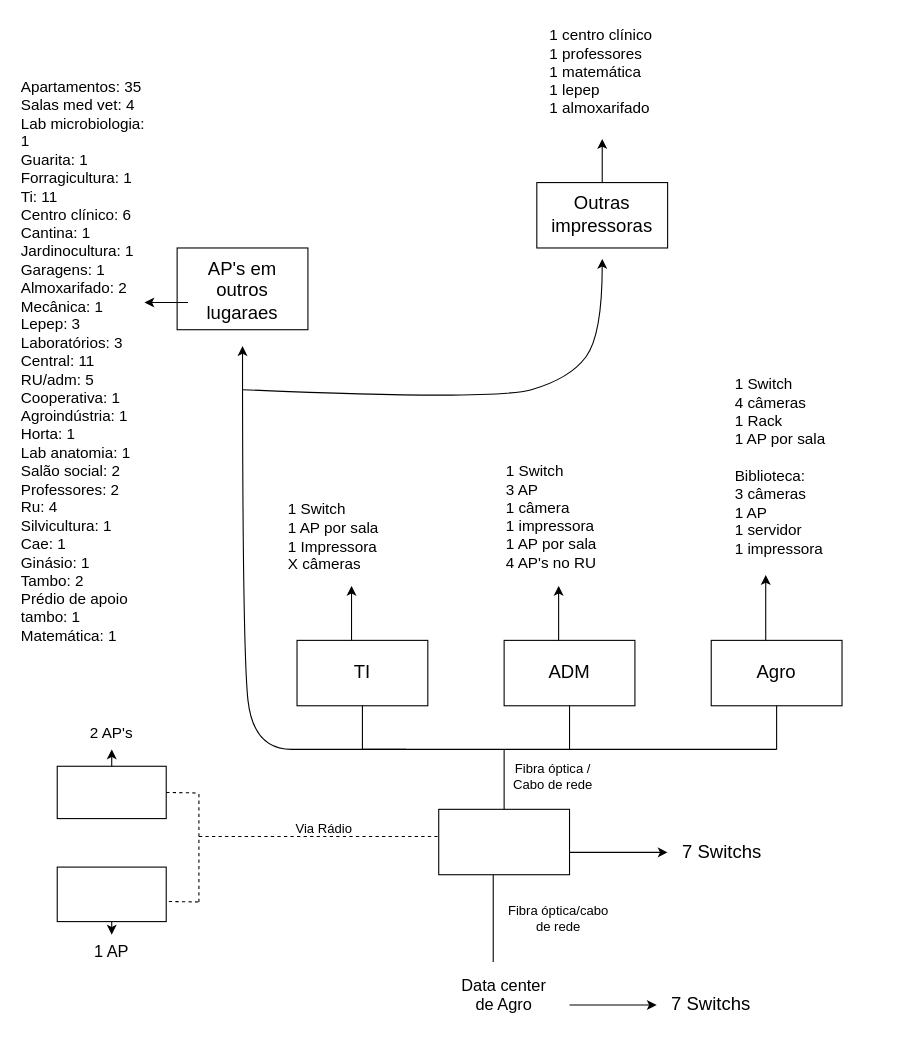
This 904x1040 diagram has some shape labels left out. Each missing label, with the centre of its shape:
"Data center da TI" belongs at pixel 504 841.
"Silvicultura" belongs at pixel 111 894.
"Tambo" belongs at pixel 111 792.
